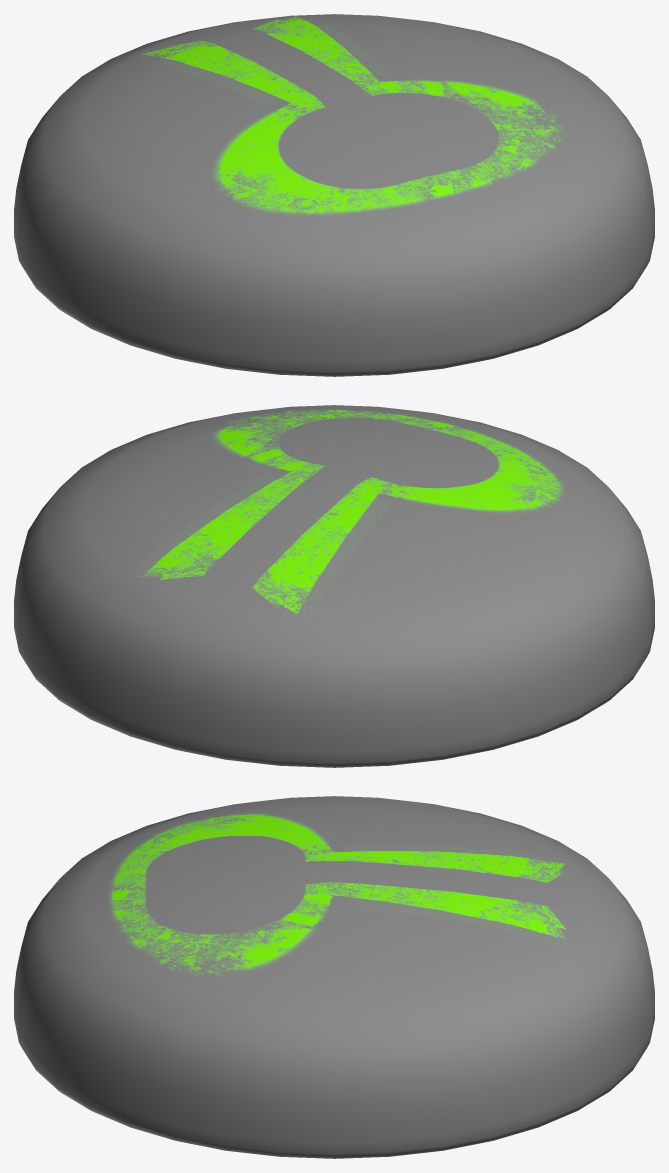
The model's file is nature_rune.glb.
The picture shows the model from 3 angles, top to bottom: view 1: azimuth 30°, elevation 25°; view 2: azimuth 150°, elevation 25°; view 3: azimuth 270°, elevation 25°; orthographic projection.
Parts seen in each view (by area): view 1: Cylinder001; view 2: Cylinder001; view 3: Cylinder001.
Part boxes in pixels (bbox=[...]): Cylinder001: bbox=[14, 14, 654, 376]; Cylinder001: bbox=[14, 405, 654, 767]; Cylinder001: bbox=[14, 796, 654, 1158].
Bounding box in the file's own units: 47.51 × 12.86 × 47.51.
Materials: 1 (1 with a texture image).
